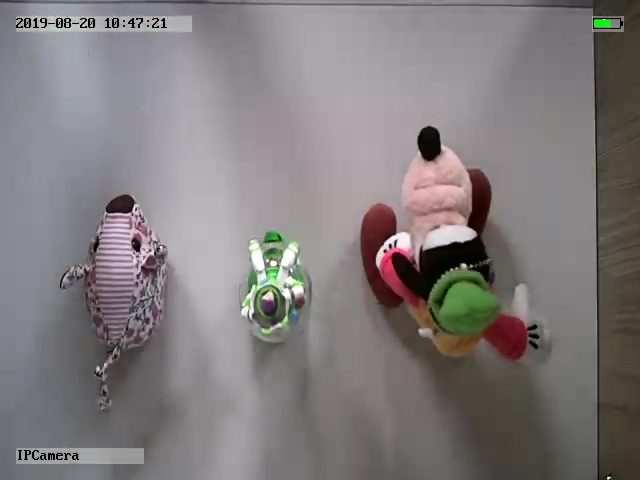buzz: (236, 231, 314, 349)
goofy: (356, 126, 554, 370)
pig: (58, 192, 172, 415)
